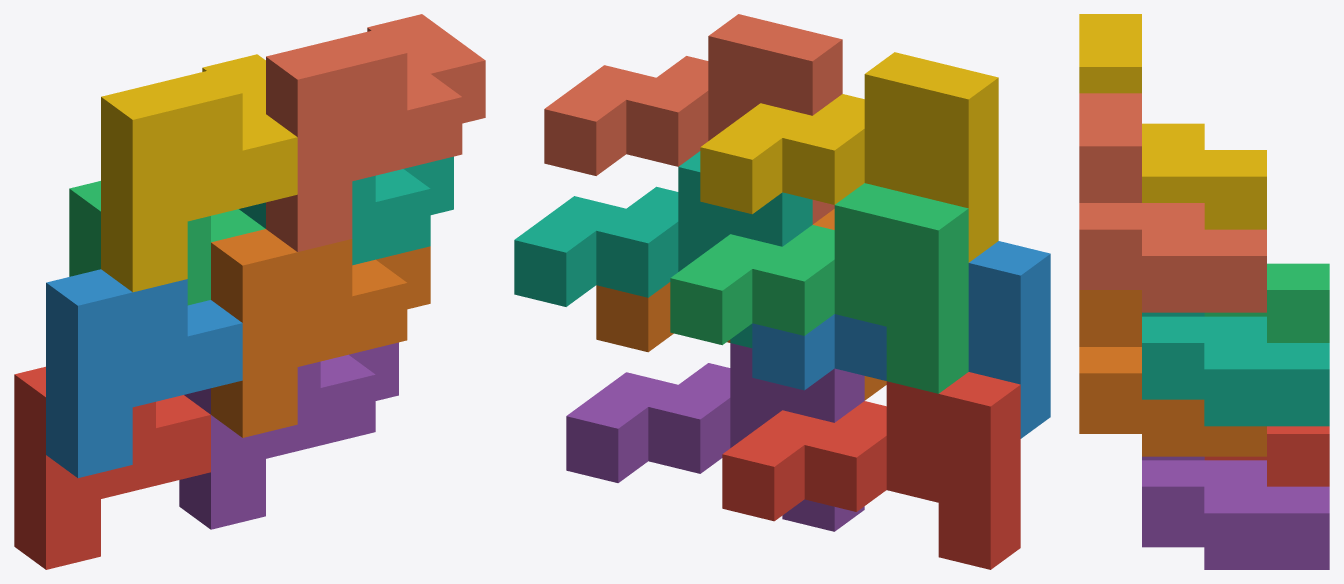
The model's file is tiling.obj.
3 views of the same model, side by side, from view 1: azimuth 30°, elevation 25°; view 2: azimuth 150°, elevation 25°; view 3: azimuth 270°, elevation 25° (orthographic). The views are drawn at different scales.
Parts seen in each view (by area): view 1: copy_1_domain_8, copy_1_domain_4, copy_1_domain_2, copy_1_domain_6, copy_1_domain_1, copy_1_domain_5, copy_1_domain_7, copy_1_domain_3; view 2: copy_1_domain_3, copy_1_domain_1, copy_1_domain_4, copy_1_domain_8, copy_1_domain_5, copy_1_domain_7, copy_1_domain_2, copy_1_domain_6; view 3: copy_1_domain_8, copy_1_domain_5, copy_1_domain_7, copy_1_domain_4, copy_1_domain_6, copy_1_domain_3, copy_1_domain_1.
Boxes of the visible parts, box(x1,y1,x2,y2) form: copy_1_domain_8: box(266, 14, 485, 251); copy_1_domain_4: box(101, 54, 297, 292); copy_1_domain_2: box(46, 269, 242, 477); copy_1_domain_6: box(211, 229, 430, 437); copy_1_domain_1: box(14, 366, 210, 569); copy_1_domain_5: box(179, 342, 398, 529); copy_1_domain_7: box(239, 156, 453, 265); copy_1_domain_3: box(69, 181, 265, 305); copy_1_domain_3: box(670, 183, 968, 393); copy_1_domain_1: box(722, 372, 1020, 569); copy_1_domain_4: box(700, 52, 998, 262); copy_1_domain_8: box(544, 14, 842, 224); copy_1_domain_5: box(566, 343, 864, 531); copy_1_domain_7: box(514, 151, 812, 348); copy_1_domain_2: box(752, 241, 1050, 438); copy_1_domain_6: box(596, 209, 886, 400); copy_1_domain_8: box(1079, 93, 1266, 312); copy_1_domain_5: box(1142, 456, 1329, 569); copy_1_domain_7: box(1142, 312, 1329, 426); copy_1_domain_4: box(1079, 14, 1266, 229); copy_1_domain_6: box(1079, 290, 1266, 456); copy_1_domain_3: box(1204, 263, 1329, 342); copy_1_domain_1: box(1204, 426, 1329, 486).
Size of the model in its own units: 8 by 8 by 4.
